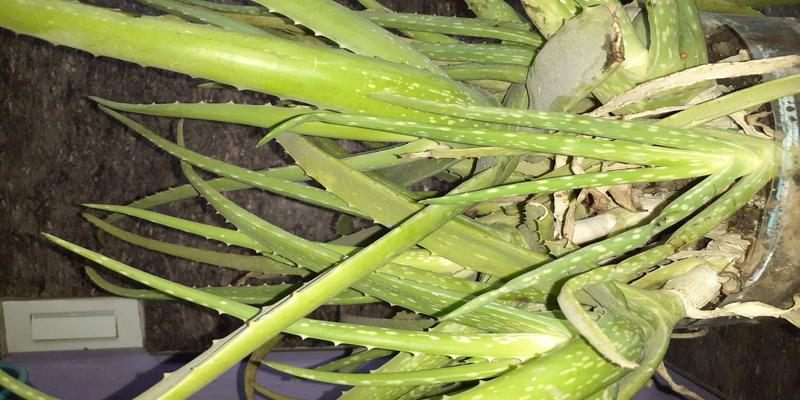Aloevera: (146, 2, 738, 386)
